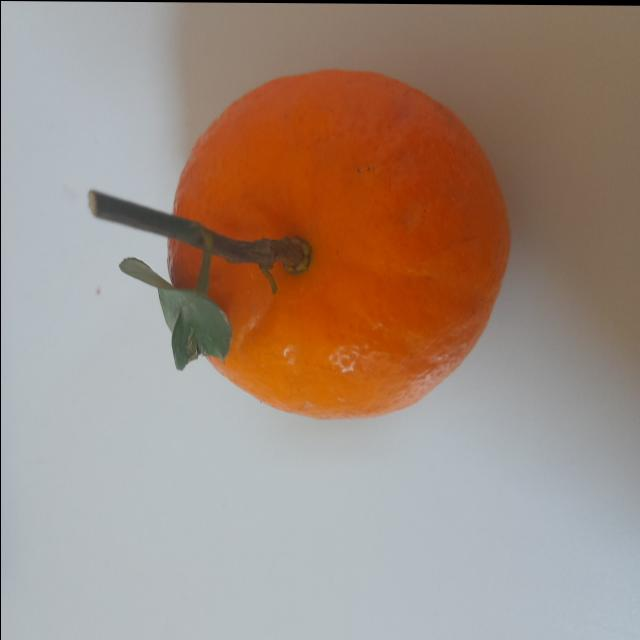Cam: (160, 62, 530, 424)
